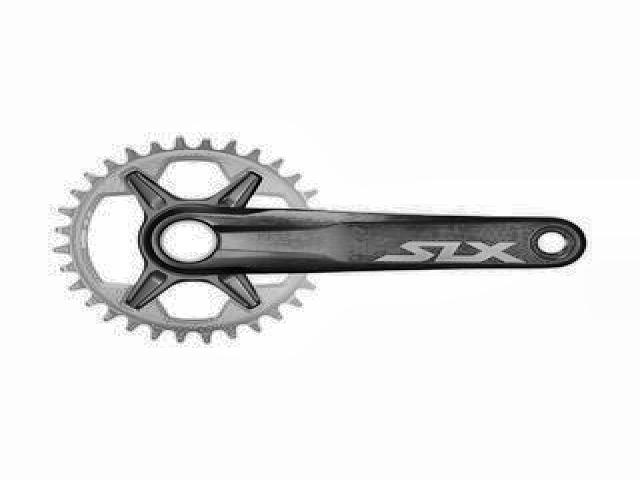cranks_set: (52, 135, 588, 348)
